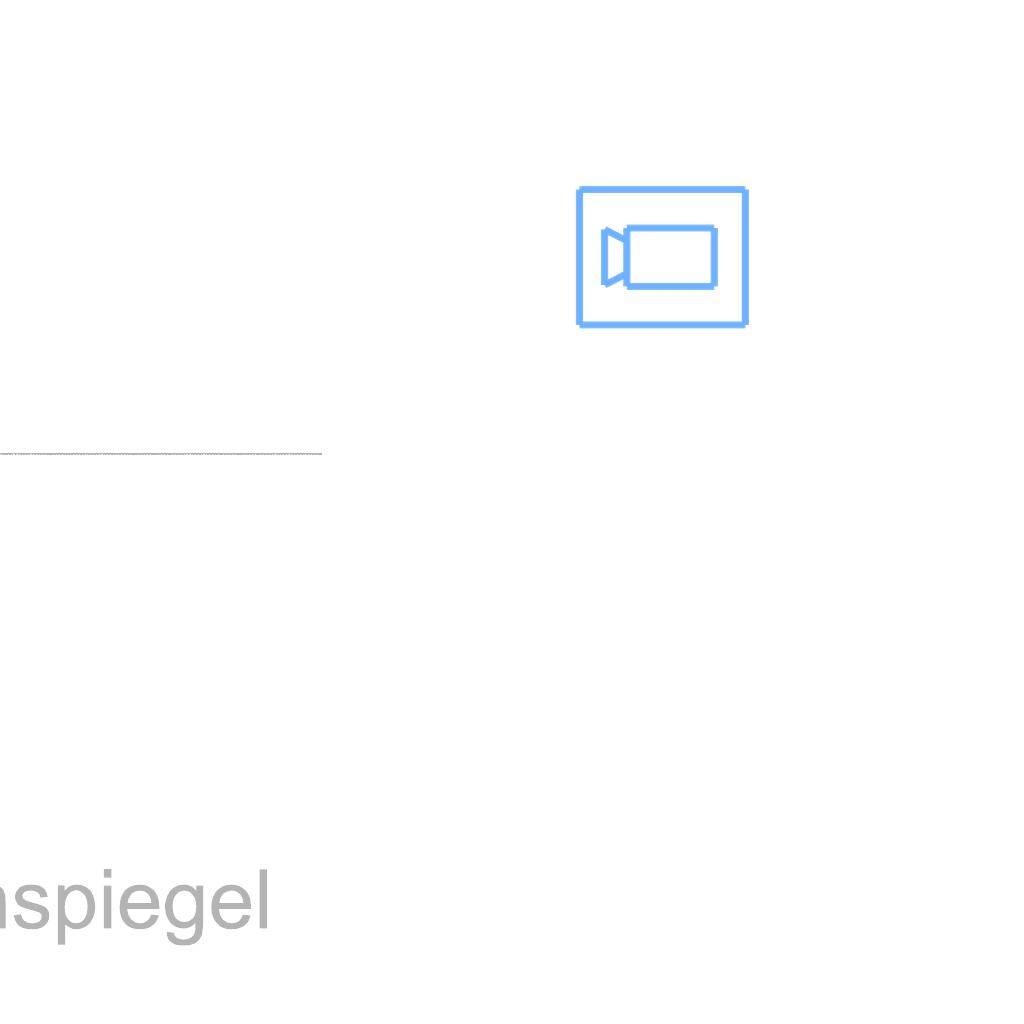KFO_Kamera_mit_Festobjektiv: (572, 179, 754, 333)
